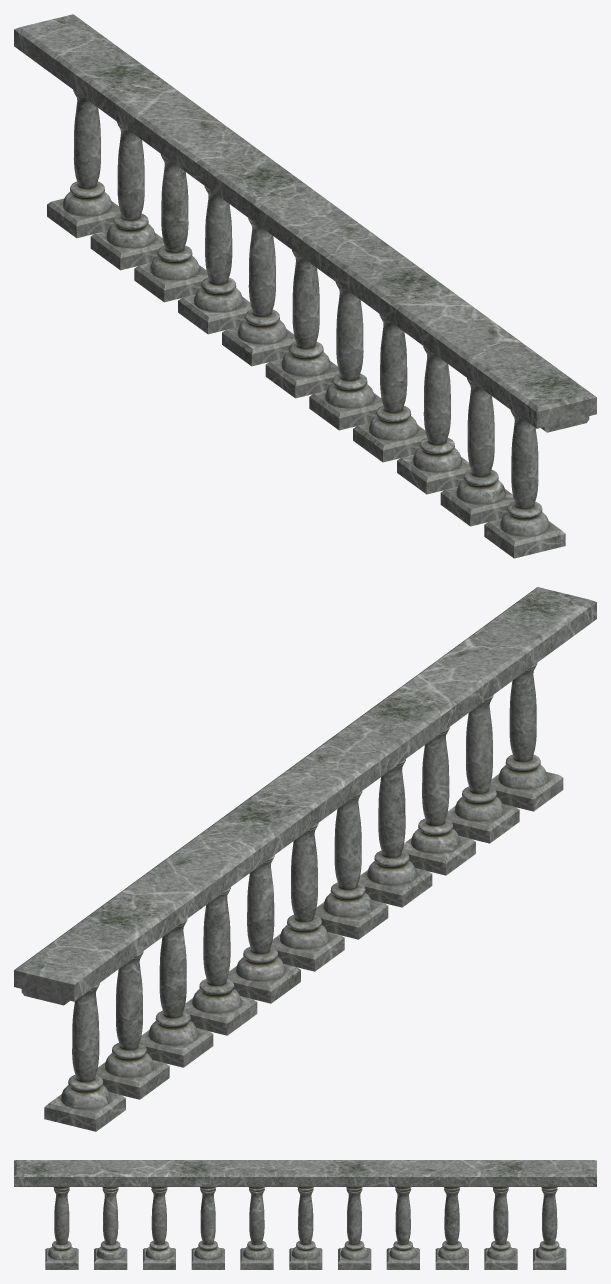
The model's file is marble_railing.glb.
3 renders of one model, top to bottom at view 1: azimuth 30°, elevation 25°; view 2: azimuth 150°, elevation 25°; view 3: azimuth 270°, elevation 25°, orthographic. The views are drawn at different scales.
Parts seen in each view (by area): view 1: polySurface17; view 2: polySurface17; view 3: polySurface17.
Boxes of the visible parts, box(x1,y1,x2,y2) form: polySurface17: box(14, 14, 596, 558); polySurface17: box(14, 587, 596, 1131); polySurface17: box(14, 1160, 596, 1269).
Bounding box in the file's own units: 35.74 × 97.21 × 538.
1 material, 1 textured.
